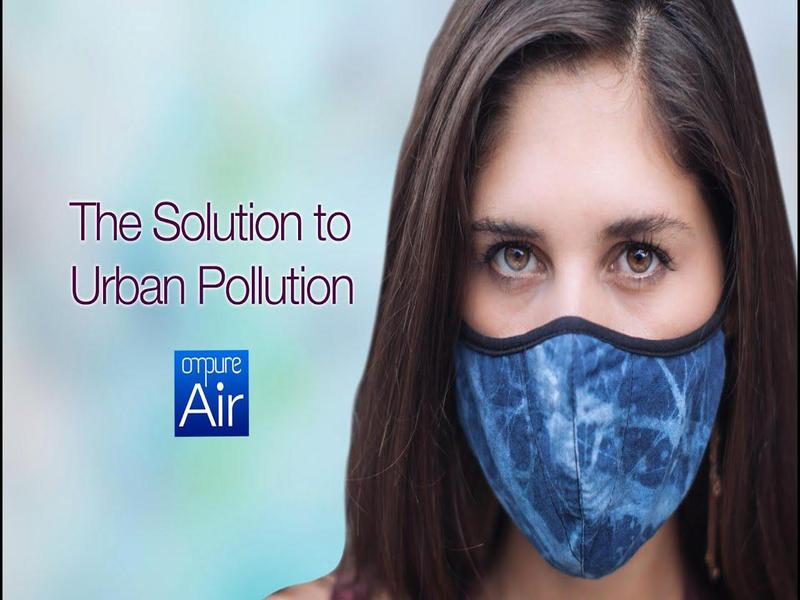with_mask: (445, 61, 725, 583)
